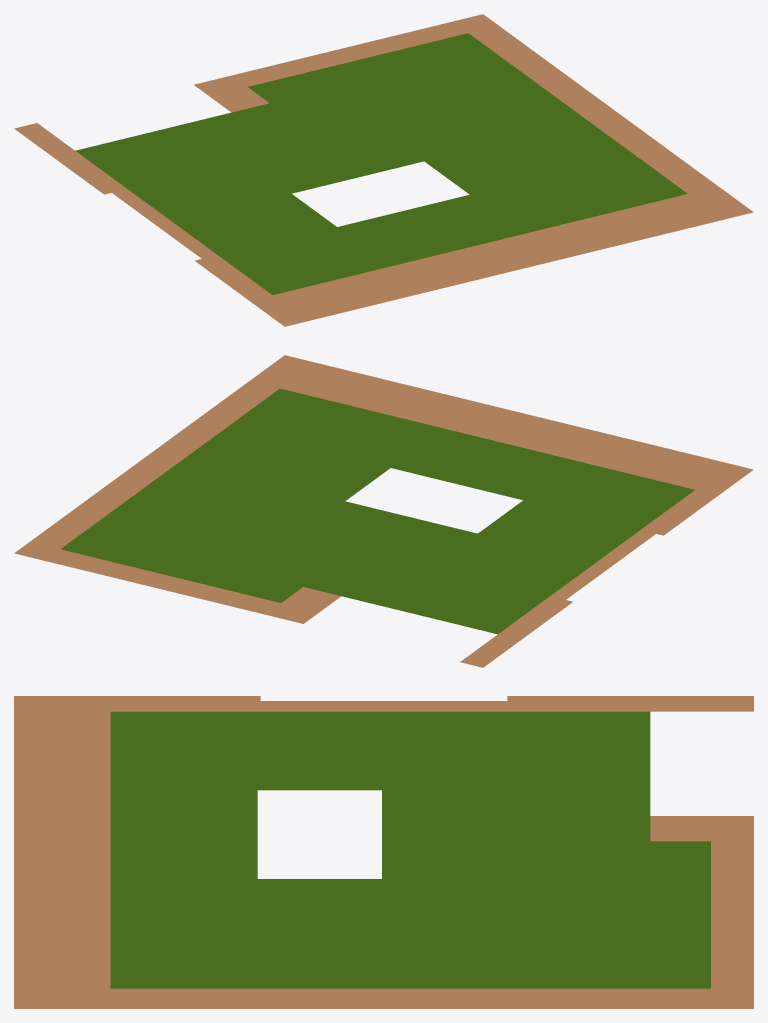
Rendered from Ground 1.fbx.
3 views of the same model, one above another, from view 1: azimuth 30°, elevation 25°; view 2: azimuth 150°, elevation 25°; view 3: azimuth 270°, elevation 25° (orthographic). The views are drawn at different scales.
Visible parts, largest first — view 1: Cube.055; view 2: Cube.055; view 3: Cube.055.
Part boxes in pixels (bbox=[...]): Cube.055: bbox=[14, 14, 753, 326]; Cube.055: bbox=[14, 355, 753, 667]; Cube.055: bbox=[14, 696, 753, 1008].
Bounding box in the file's own units: 10200 × 10200 × 6.25e-13.
